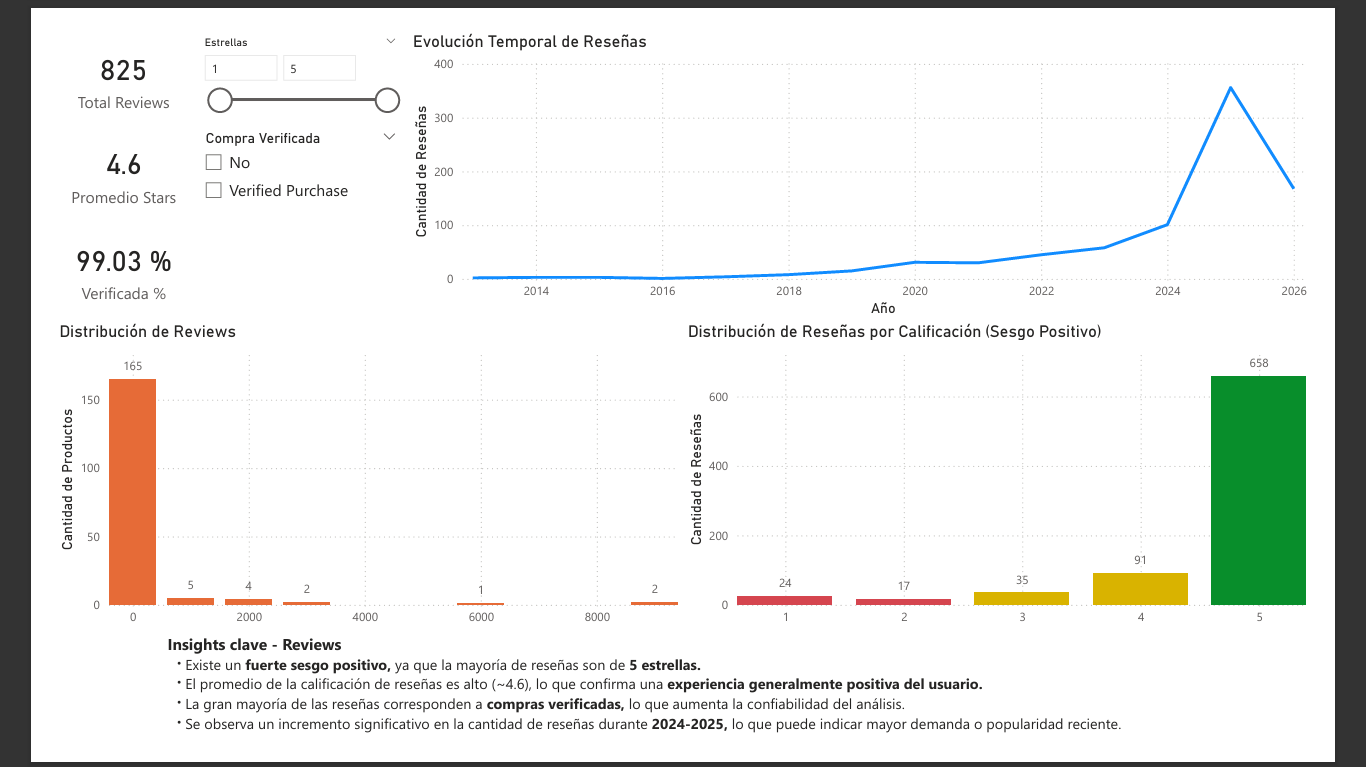

The page's visual inventory and layout, read from the dashboard file:
{"tool":"powerbi","page":{"name":"Página 2","canvas":[1280,720],"ordinal":1},"visuals":[{"type":"columnChart","title":"Distribución de Reviews","fields":{"Category":["Products.Review Count (ubicaciones)"],"Y":["CountNonNull(Products.ASIN)"]},"box":[0,295,640,331.7],"z":0},{"type":"columnChart","title":"Distribución de Reseñas por Calificación (Sesgo Positivo)","fields":{"Category":["Reviews.Stars"],"Y":["CountNonNull(Reviews.ASIN)"]},"box":[640,295,640,331.7],"z":1000},{"type":"lineChart","title":"Evolución Temporal de Reseñas","fields":{"Y":["CountNonNull(Reviews.ASIN)"],"Category":["Reviews.Review_Date.Variación.Jerarquía de fechas.Año","Reviews.Review_Date.Variación.Jerarquía de fechas.Mes"]},"box":[360,0,920.2,295.2],"z":2000},{"type":"card","fields":{"Values":["Products.Total Reviews"]},"box":[0,0,141.1,95],"z":3000},{"type":"card","fields":{"Values":["Products.Promedio Stars"]},"box":[0,95,141.1,97.9],"z":4000},{"type":"textbox","box":[110,608.3,1058.3,111.7],"z":5000},{"type":"card","fields":{"Values":["Products.Verified %"]},"box":[0,193,141.1,97.9],"z":6000},{"type":"slicer","fields":{"Values":["Reviews.Stars"]},"box":[139.7,0,220.3,96.5],"z":7000},{"type":"slicer","fields":{"Values":["Reviews.Verified_Purchase"]},"box":[141.1,95,218.9,85],"z":8000}]}

Visuals, with their boxes in screenshot pixels (x1, y1, x2, y2), scaled from the page's 1280x720 canvas onto the 1366x767 screenshot:
"Distribución de Reviews" columnChart: [0, 314, 683, 668]
"Distribución de Reseñas por Calificación (Sesgo Positivo)" columnChart: [683, 314, 1365, 668]
"Evolución Temporal de Reseñas" lineChart: [384, 0, 1365, 314]
card - Products.Total Reviews: [0, 0, 151, 101]
card - Products.Promedio Stars: [0, 101, 151, 205]
textbox: [117, 648, 1247, 766]
card - Products.Verified %: [0, 206, 151, 310]
slicer - Reviews.Stars: [149, 0, 384, 103]
slicer - Reviews.Verified_Purchase: [151, 101, 384, 192]
